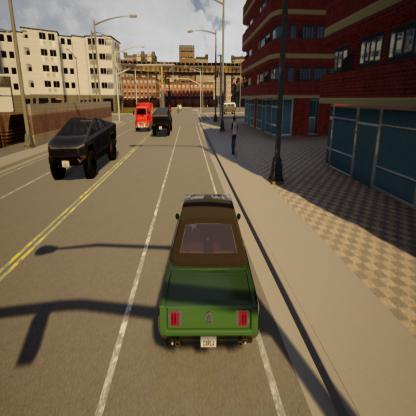Cars: (160, 196, 259, 348), (47, 115, 117, 181), (152, 108, 174, 138), (135, 99, 152, 130), (222, 98, 239, 115), (177, 102, 184, 116), (168, 103, 172, 115)
Pedestrian: (230, 112, 240, 158)
